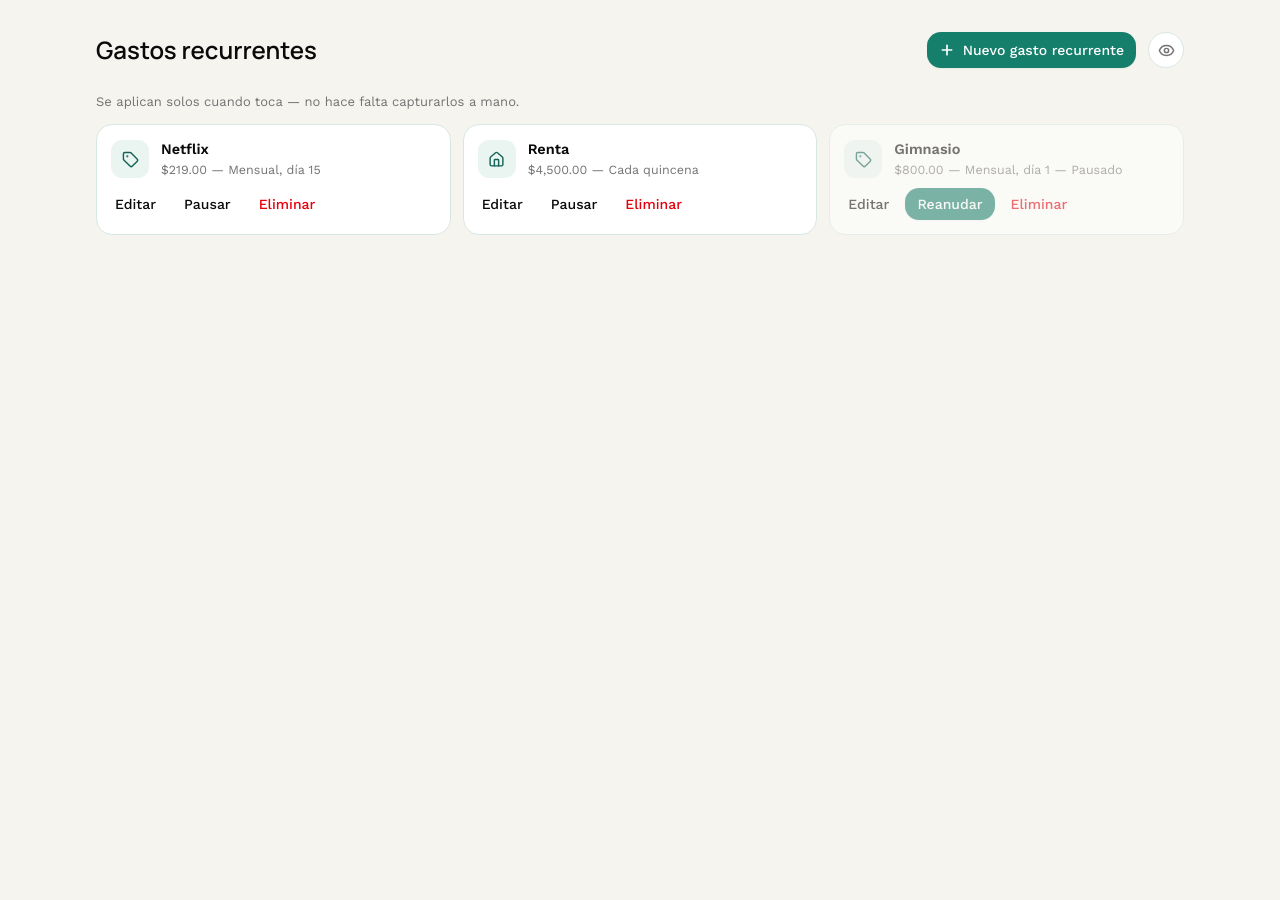
Scenario: Recurrentes — crear uno › empieza en "Cada quincena" y el día del mes solo aparece al elegir "Una vez al mes"
Check: the text "Netflix" is shown, box [161,140,209,158]
Click the button "Nuevo gasto recurrente" at (1031, 50), box [927,32,1136,68]
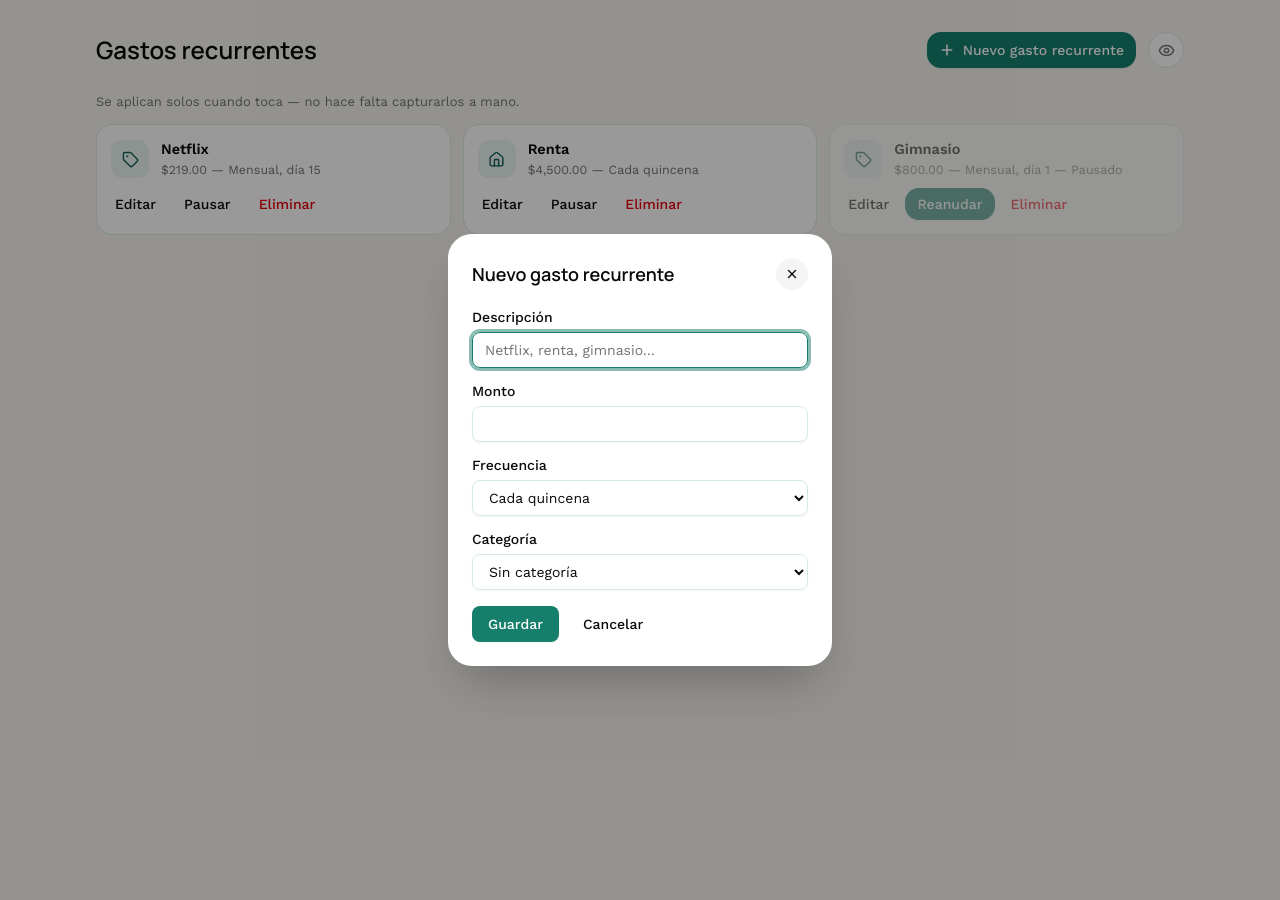
Check: the field labelled "Día del mes en que se cobra" is not shown
Check: the dropdown labelled "Frecuencia" shows "Cada quincena"
Select "Una vez al mes" in the dropdown labelled "Frecuencia" at (640, 498), box [472,480,808,516]
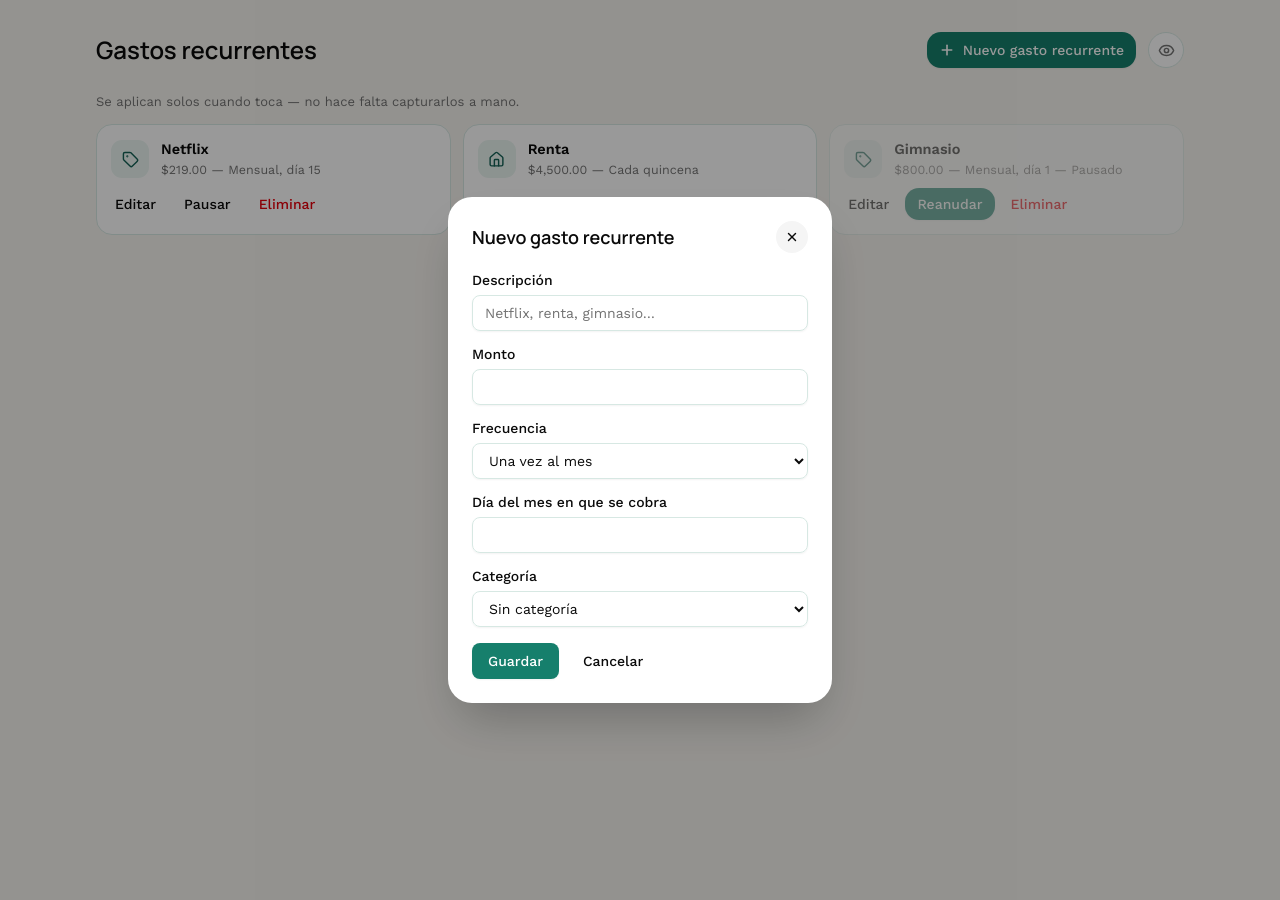
Check: the number field labelled "Día del mes en que se cobra" is shown, box [472,517,808,553]
Select "Cada quincena" in the dropdown labelled "Frecuencia" at (640, 461), box [472,443,808,479]
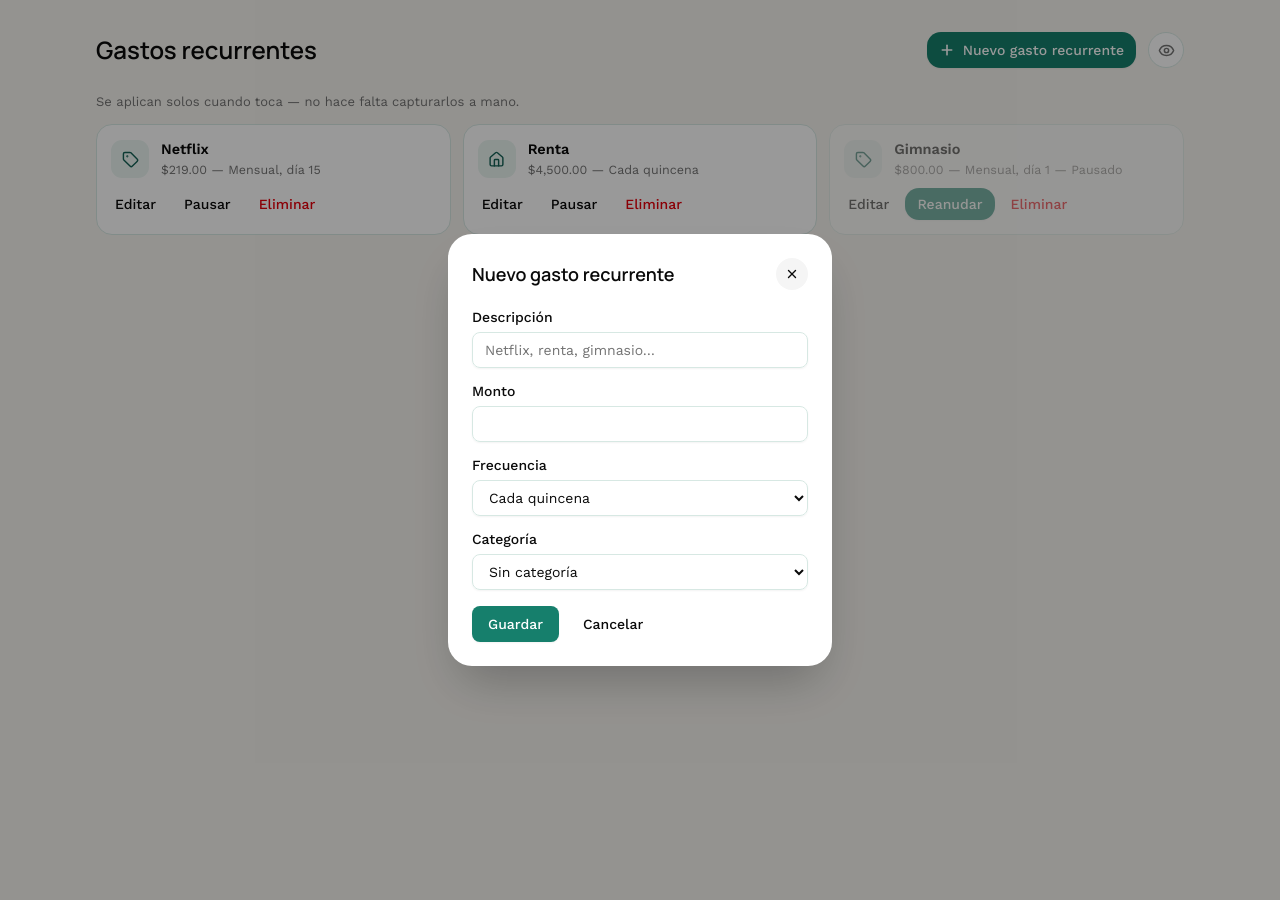
Check: the label labelled "Día del mes en que se cobra" is gone
